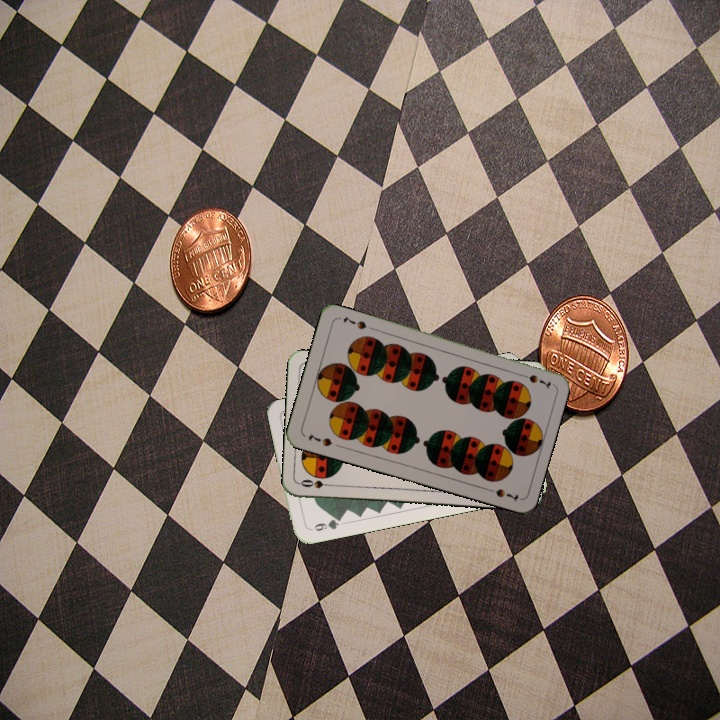G9: (305, 513, 345, 534)
S7: (515, 370, 553, 390), (304, 429, 335, 449)
SO: (297, 475, 337, 491)
